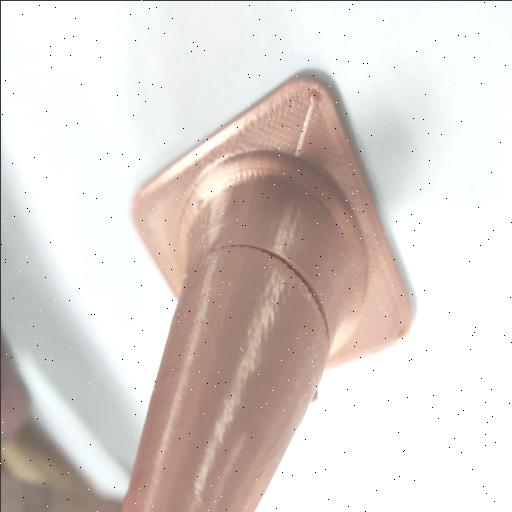cracks: (190, 224, 358, 338)
